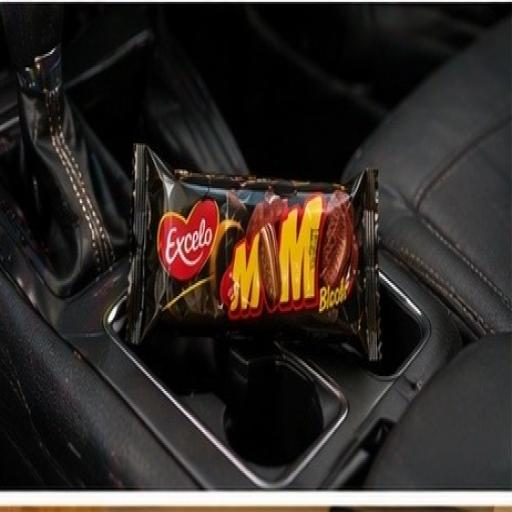MOMO: (96, 100, 406, 407)
